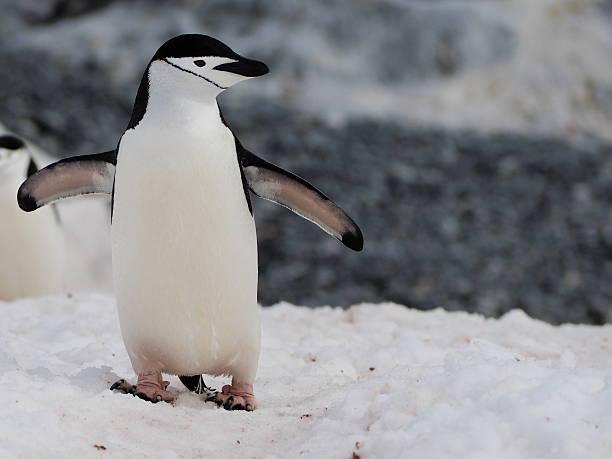chinstrap: (43, 20, 345, 428)
